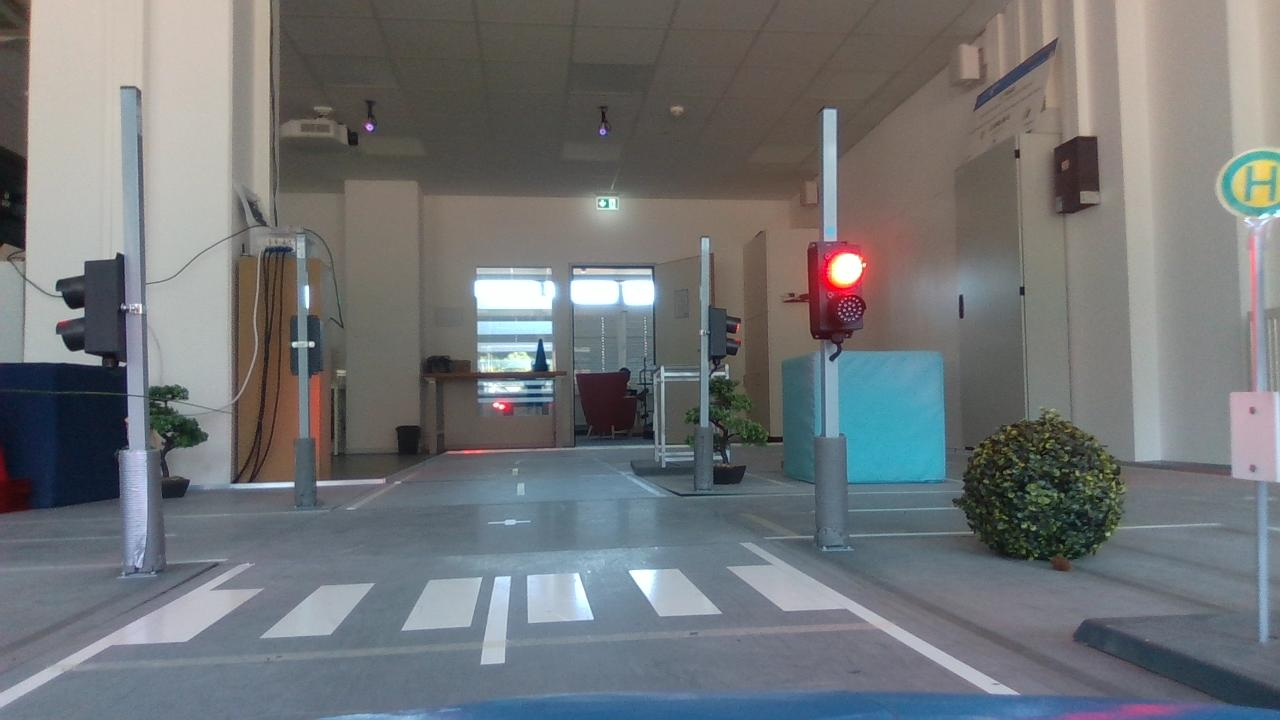traffic_light_red: (799, 229, 872, 348)
